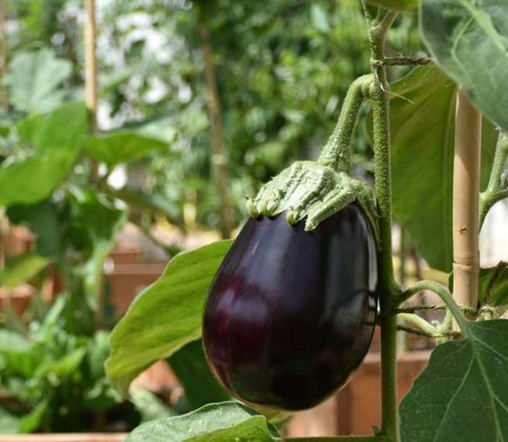catim: (171, 40, 408, 428)
